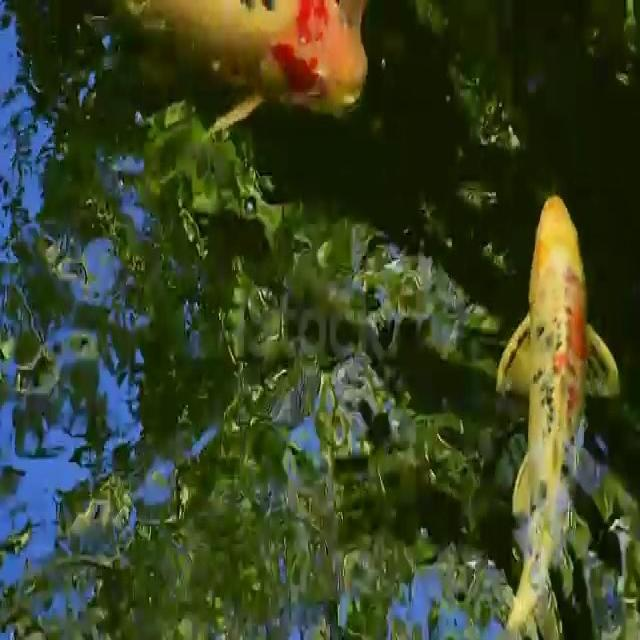fish: (504, 160, 626, 640), (116, 2, 370, 126)
